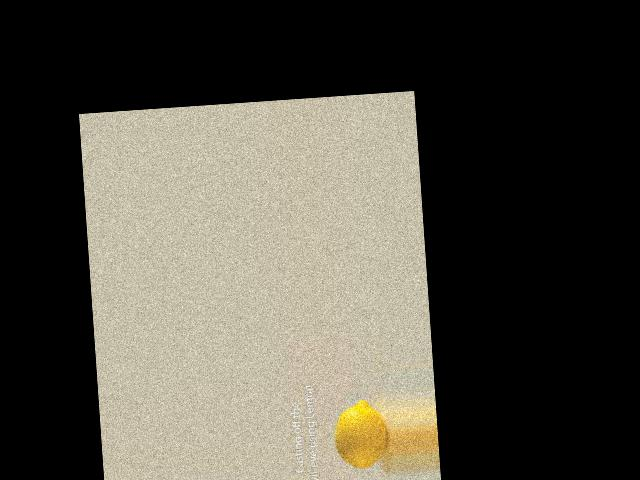lemon: (328, 394, 386, 476)
